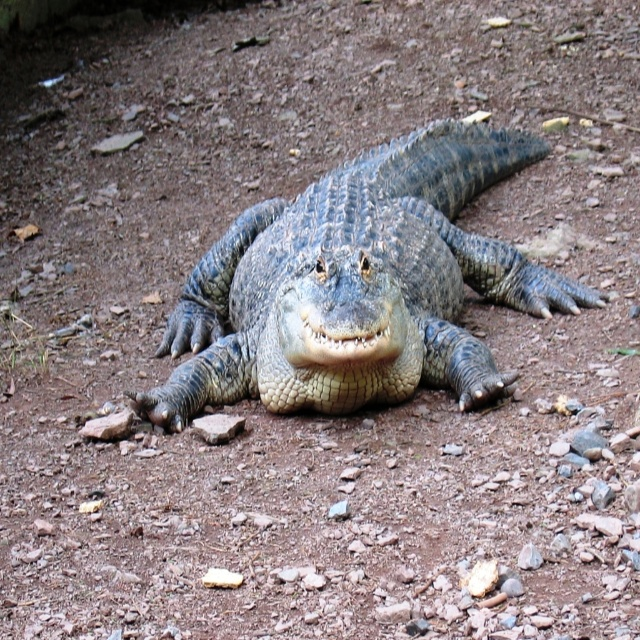Crocodile: (123, 118, 611, 433)
